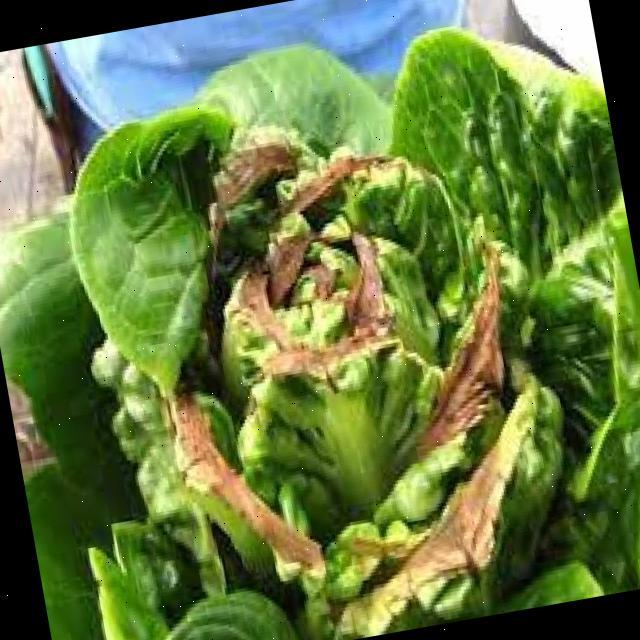Powdery_Mildew: (96, 89, 587, 640)
